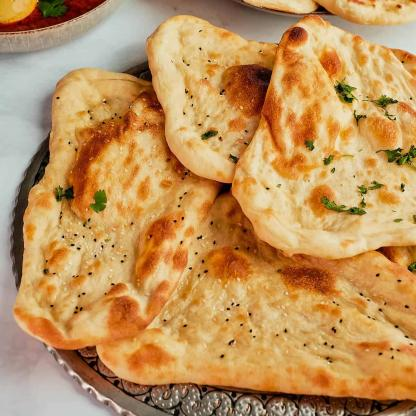naan: (95, 193, 416, 401), (13, 67, 224, 350), (231, 13, 416, 261), (147, 16, 278, 185), (241, 0, 416, 29)
